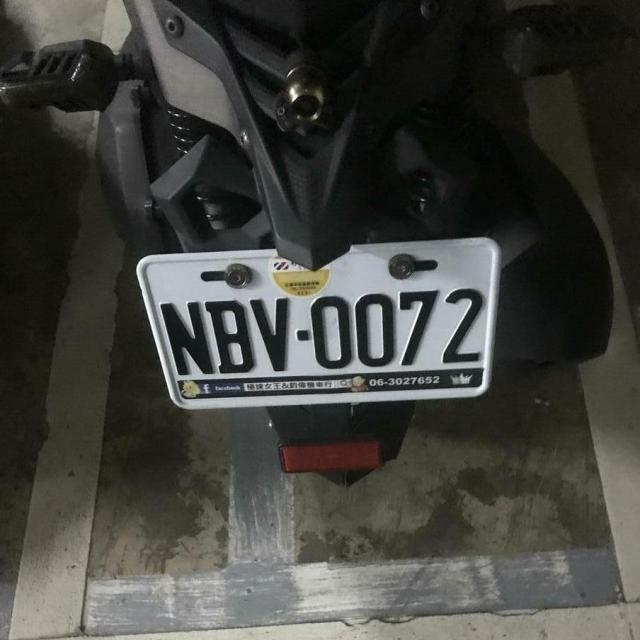W: (132, 224, 514, 414)
